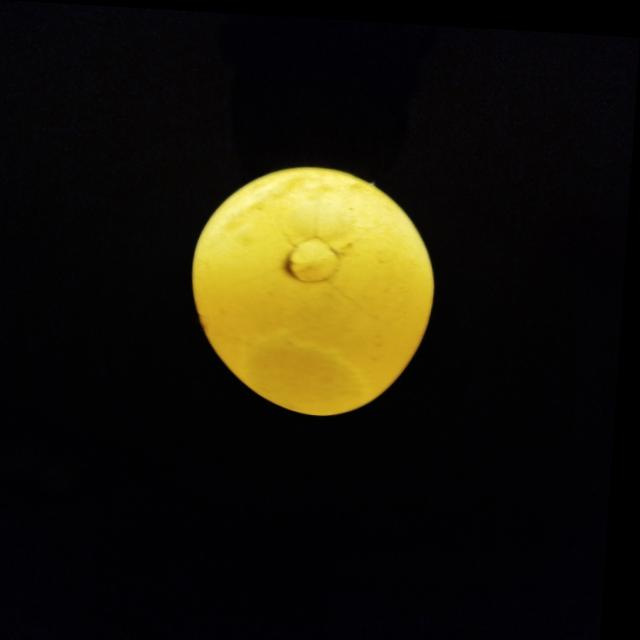Camara de Ar: (248, 330, 371, 411)
Rachadura: (286, 215, 378, 311)
